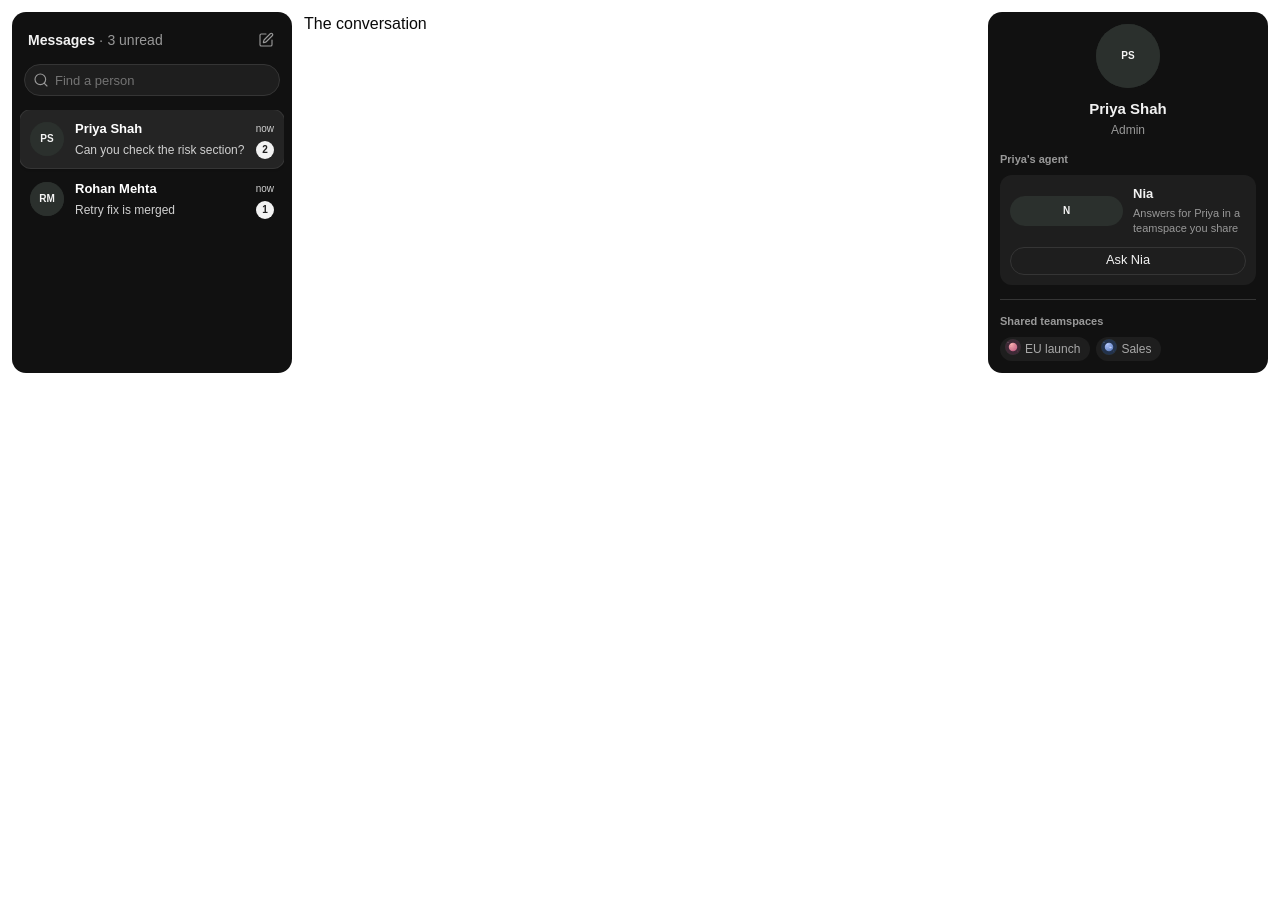
it: Messages › says so when the request is refused, keeping the question
Click the button "Ask Nia" at point(1128, 261), box [1010,247,1246,275]
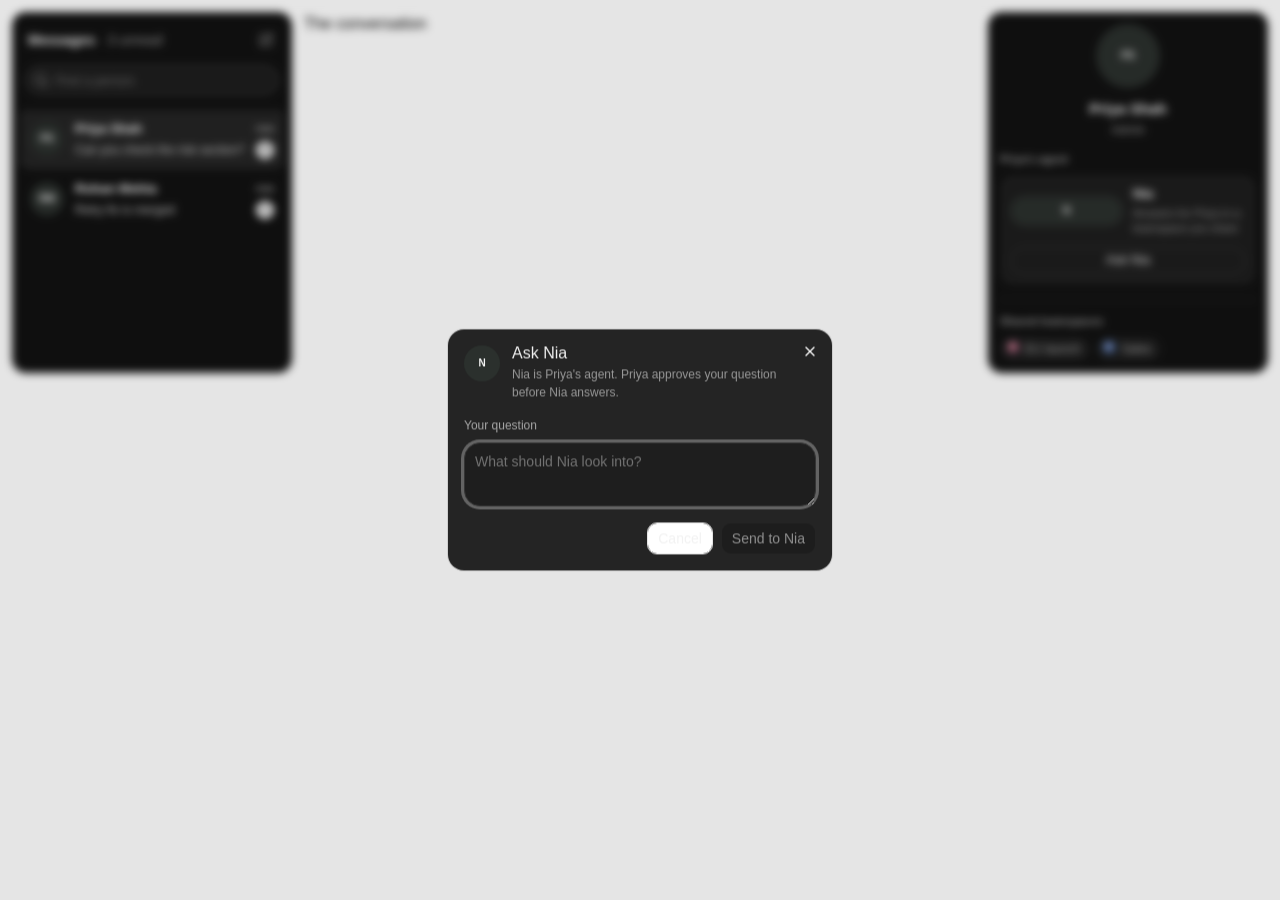
Type "Is VAT included?" into the text box labelled "Your question" at point(640, 475), box [464,443,816,507]
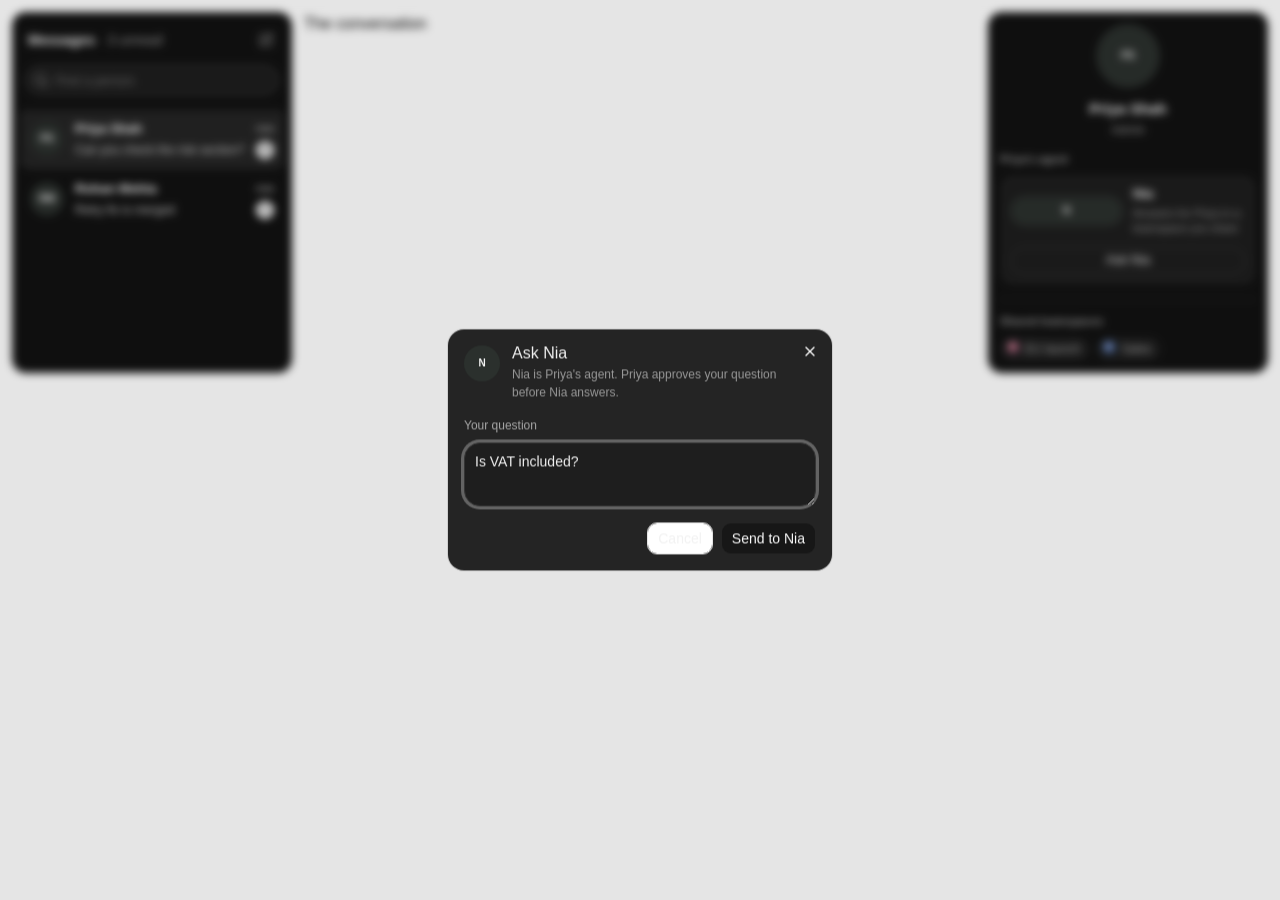
Click the button "Send to Nia" at point(768, 539), box [721,523,816,555]
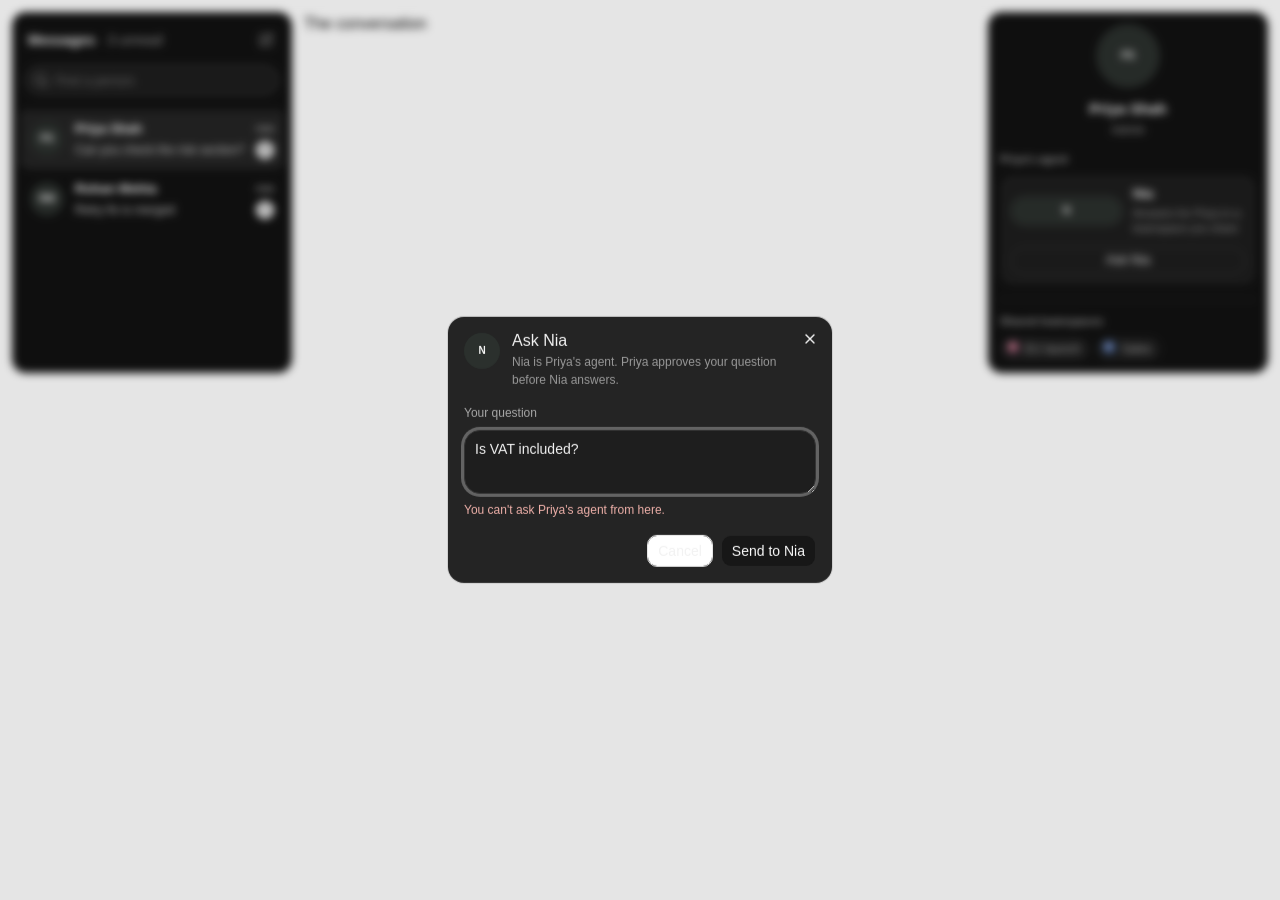
Result: the text "You can't ask Priya's agent from here." is shown at [464,503,665,517]
